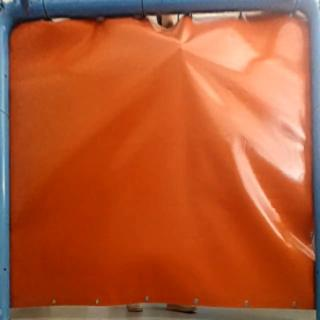Hit-hRxx: (172, 42, 190, 56)
